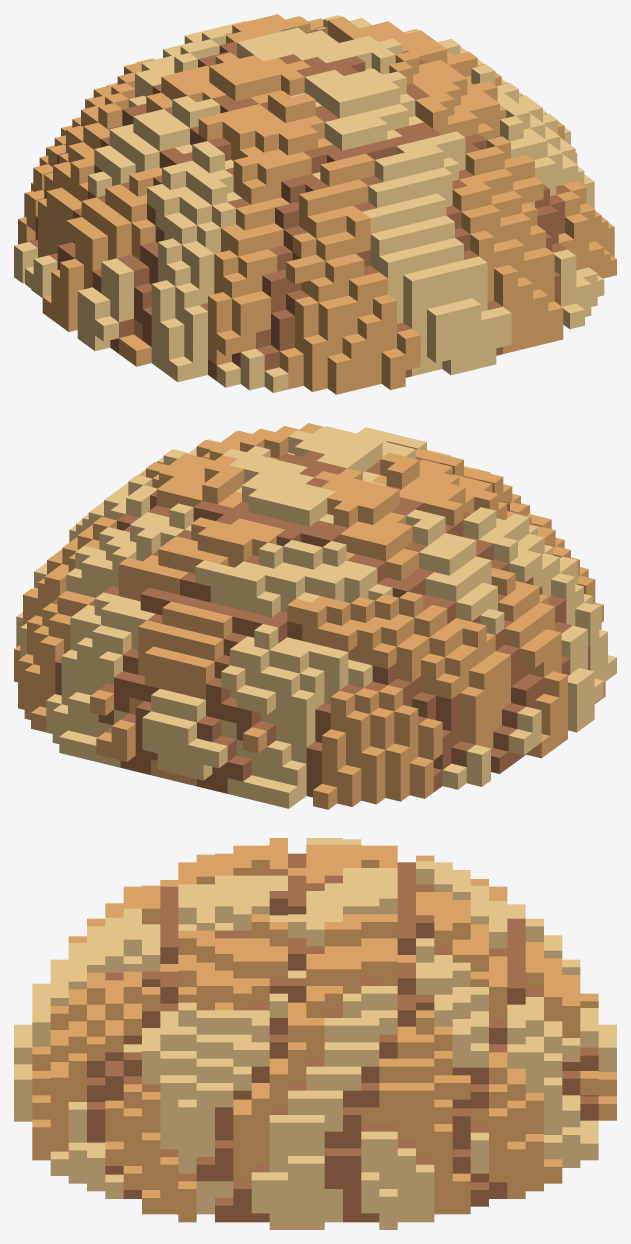
File: E02_Coral_Brain.glb
3 renders of one model, top to bottom at view 1: azimuth 30°, elevation 25°; view 2: azimuth 150°, elevation 25°; view 3: azimuth 270°, elevation 25°, orthographic. The views are drawn at different scales.
Parts seen in each view (by area): view 1: E02_Body; view 2: E02_Body; view 3: E02_Body.
Boxes of the visible parts, x1,y1,x2,y2 form: E02_Body: [14, 14, 616, 394]; E02_Body: [14, 423, 616, 809]; E02_Body: [14, 838, 616, 1229].
Bounding box in the file's own units: 1.98 × 0.78 × 1.98.
